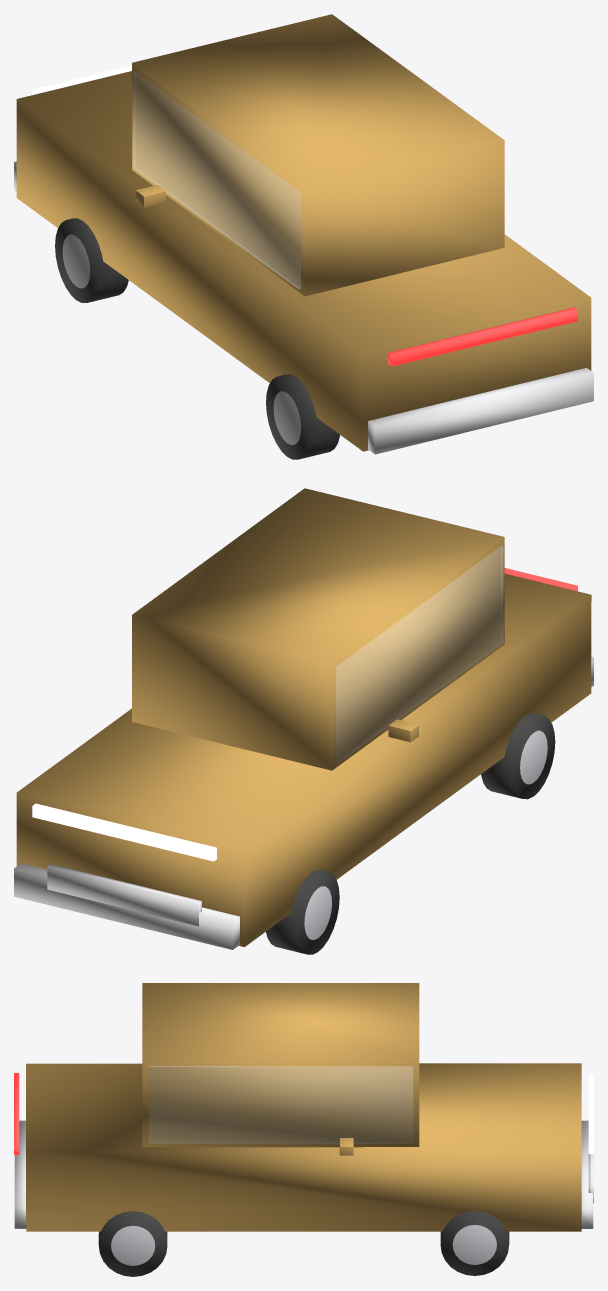
Rendered from vehicle.glb.
3 renders of one model, top to bottom at view 1: azimuth 30°, elevation 25°; view 2: azimuth 150°, elevation 25°; view 3: azimuth 270°, elevation 25°, orthographic. The views are drawn at different scales.
Visible parts, largest first — view 1: BODY_Roof, BODY_Main, GLASS_Greenhouse, BODY_Bumpers_Rear, WHEEL_RR_Tire, LIGHT_Taillights, WHEEL_FR_Tire, WHEEL_FR_Alloy, WHEEL_RR_Alloy, LIGHT_Headlights; view 2: BODY_Roof, BODY_Main, GLASS_Greenhouse, BODY_Bumpers_Front, BODY_Grille, WHEEL_RR_Tire, WHEEL_FR_Tire, LIGHT_Headlights, WHEEL_RR_Alloy, WHEEL_FR_Alloy; view 3: BODY_Main, BODY_Roof, GLASS_Greenhouse, WHEEL_RL_Tire, WHEEL_FL_Tire, WHEEL_RL_Alloy, WHEEL_FL_Alloy, BODY_Bumpers_Rear, BODY_Bumpers_Front, LIGHT_Taillights, LIGHT_Headlights.
Boxes of the visible parts, x1,y1,x2,y2 form: BODY_Roof: (132, 14, 504, 296); BODY_Main: (16, 71, 591, 451); GLASS_Greenhouse: (133, 72, 300, 288); BODY_Bumpers_Rear: (368, 367, 593, 454); WHEEL_RR_Tire: (266, 374, 339, 459); LIGHT_Taillights: (388, 307, 577, 366); WHEEL_FR_Tire: (55, 218, 128, 302); WHEEL_FR_Alloy: (62, 234, 90, 288); WHEEL_RR_Alloy: (273, 391, 301, 444); LIGHT_Headlights: (32, 65, 131, 94); BODY_Roof: (132, 488, 504, 770); BODY_Main: (16, 573, 591, 946); GLASS_Greenhouse: (336, 546, 503, 763); BODY_Bumpers_Front: (14, 863, 239, 949); BODY_Grille: (47, 864, 201, 926); WHEEL_RR_Tire: (481, 713, 555, 799); WHEEL_FR_Tire: (266, 870, 339, 954); LIGHT_Headlights: (32, 803, 216, 861); WHEEL_RR_Alloy: (520, 730, 547, 784); WHEEL_FR_Alloy: (304, 886, 331, 939); BODY_Main: (26, 1063, 581, 1231); BODY_Roof: (142, 983, 419, 1147); GLASS_Greenhouse: (148, 1066, 413, 1143); WHEEL_RL_Tire: (98, 1211, 167, 1276); WHEEL_FL_Tire: (440, 1211, 509, 1275); WHEEL_RL_Alloy: (111, 1225, 155, 1265); WHEEL_FL_Alloy: (452, 1225, 496, 1264); BODY_Bumpers_Rear: (14, 1120, 26, 1228); BODY_Bumpers_Front: (581, 1120, 593, 1228); LIGHT_Taillights: (14, 1073, 19, 1154); LIGHT_Headlights: (588, 1074, 593, 1153).
Size of the model in its own units: 2.22 by 1.99 by 5.06.
